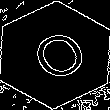O_SE: (19, 23, 91, 87)
